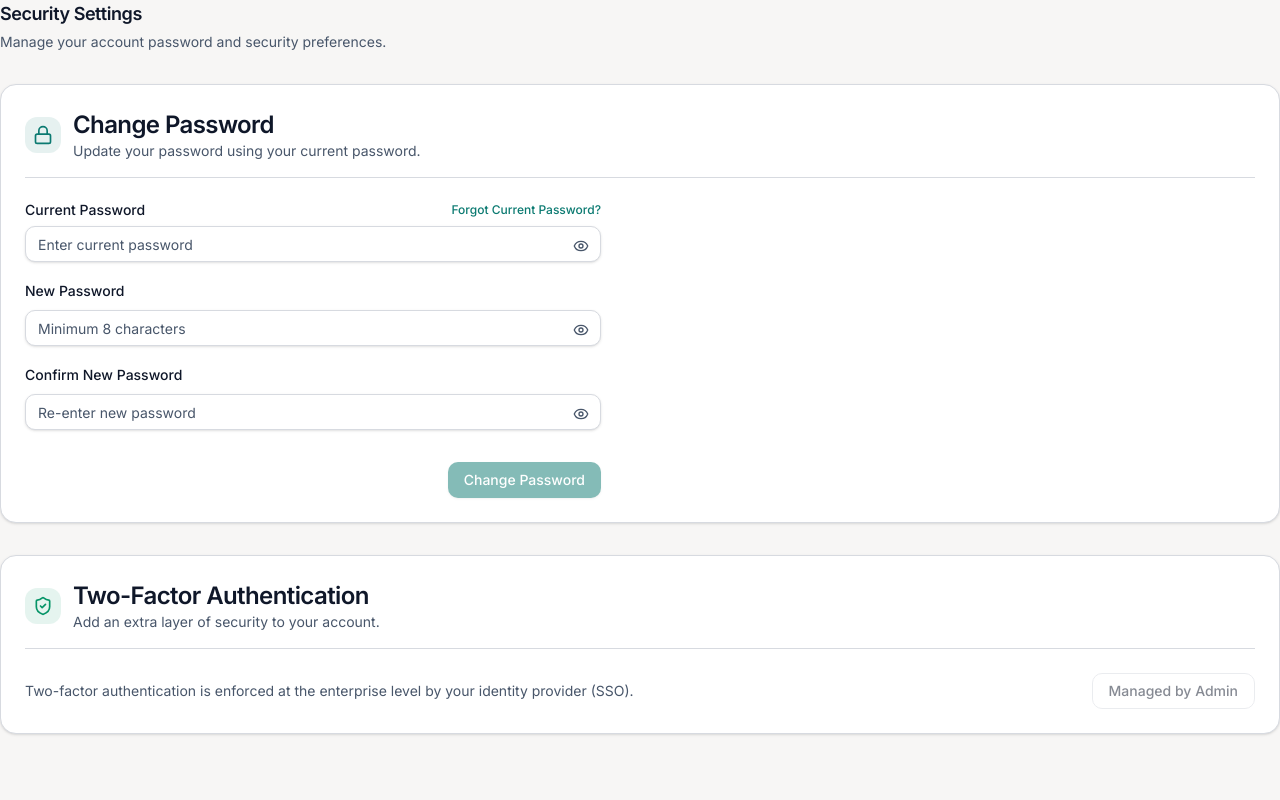
Test case: Security Settings: Dual-Path In-Place Password Change (Phase 4) › Path A — User Knows Current Password › 2, 3, 4. Successful Path A submission stays on Security Settings, does NOT navigate to login, and resets the form
Type "OldPassword123!" into the password field labelled "Current Password" at (313,244), box [25,226,601,262]
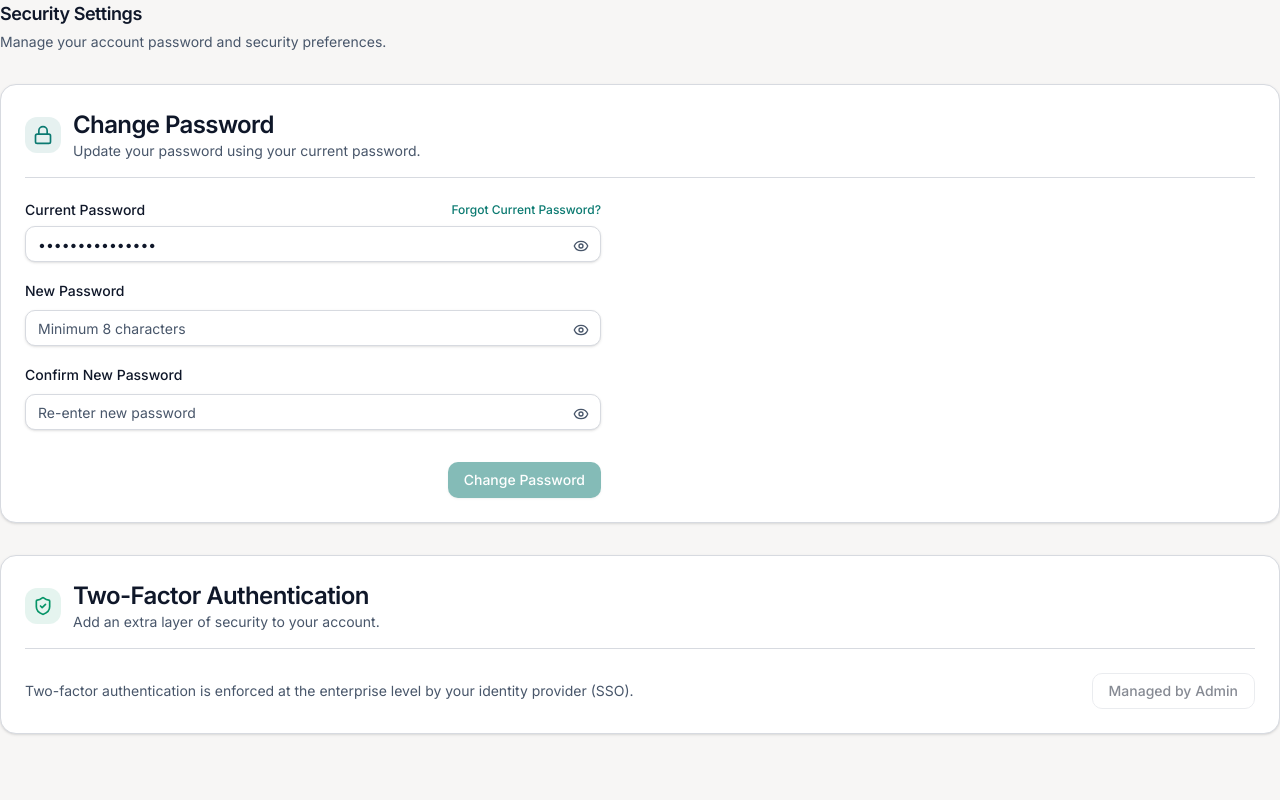
Type "NewSuperPassword456!" into the password field labelled "New Password" at (313,328), box [25,310,601,346]
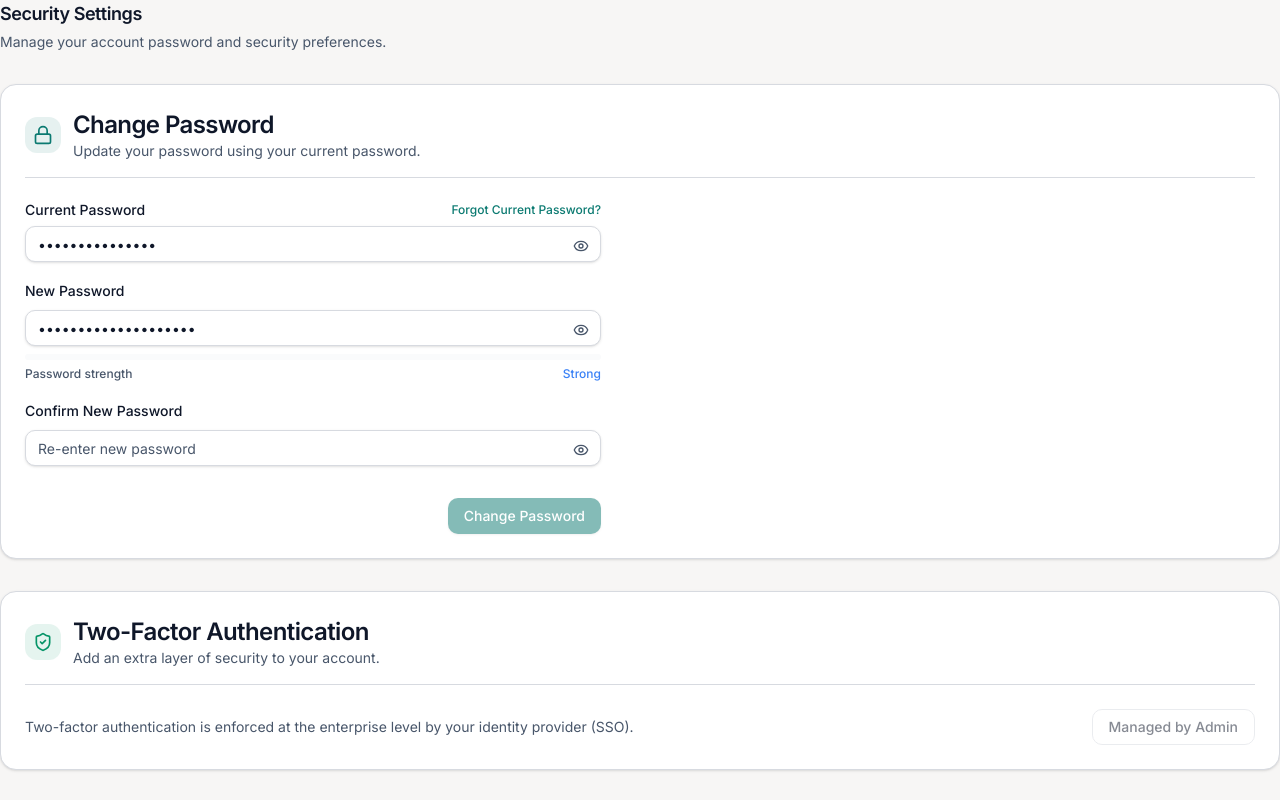
Type "NewSuperPassword456!" into the password field labelled "Confirm New Password" at (313,448), box [25,430,601,466]
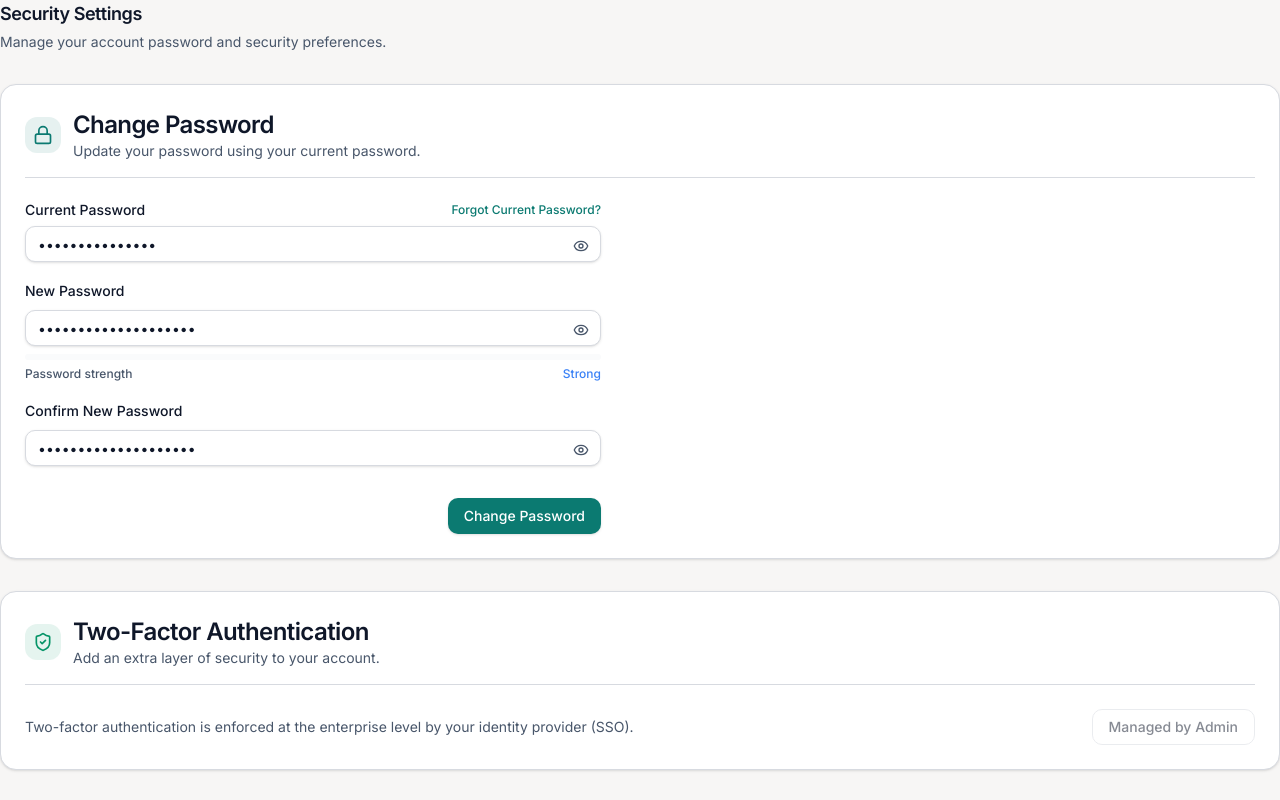
Check: the button "Change Password" is enabled
Click the button "Change Password" at (524,516), box [448,498,601,534]
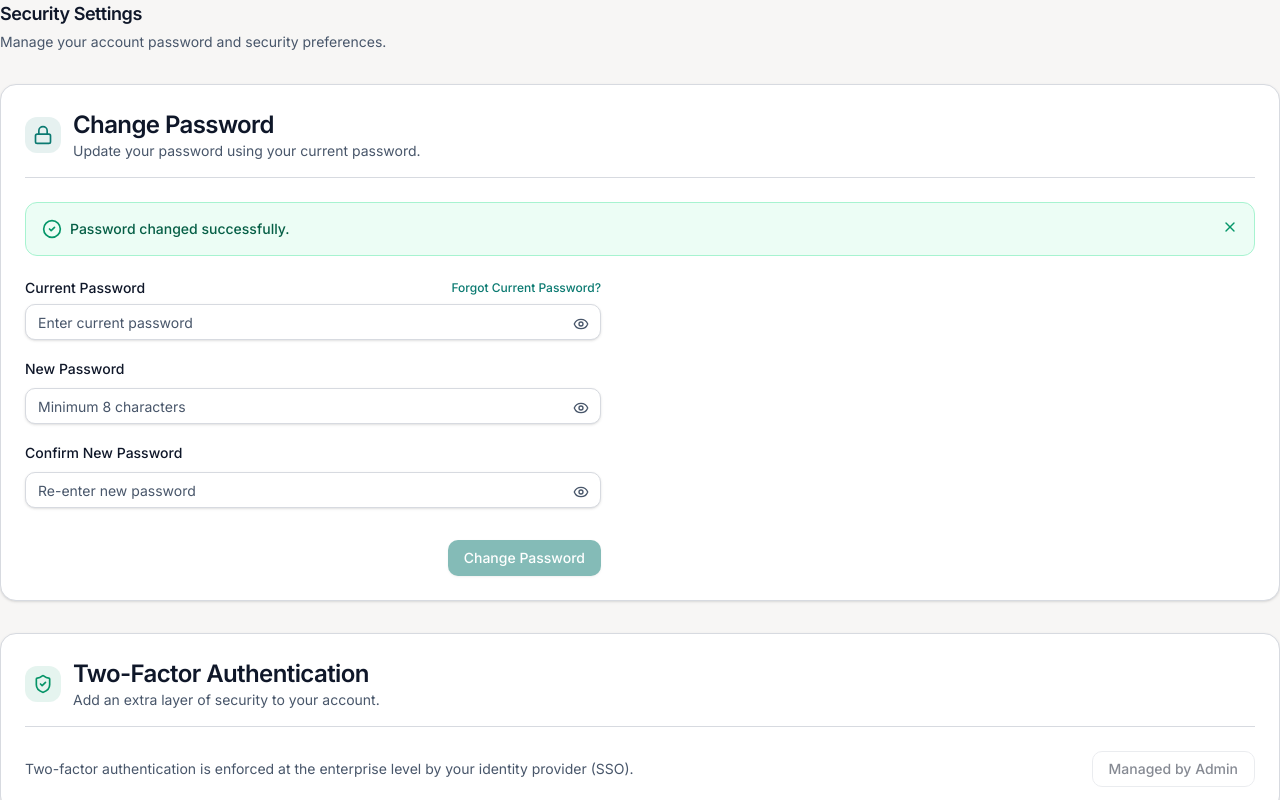
Check: the text "Password changed successfully." is shown, box [70,219,290,239]
Check: the password field labelled "Current Password" is empty, box [25,304,601,340]
Check: the password field labelled "New Password" is empty, box [25,388,601,424]
